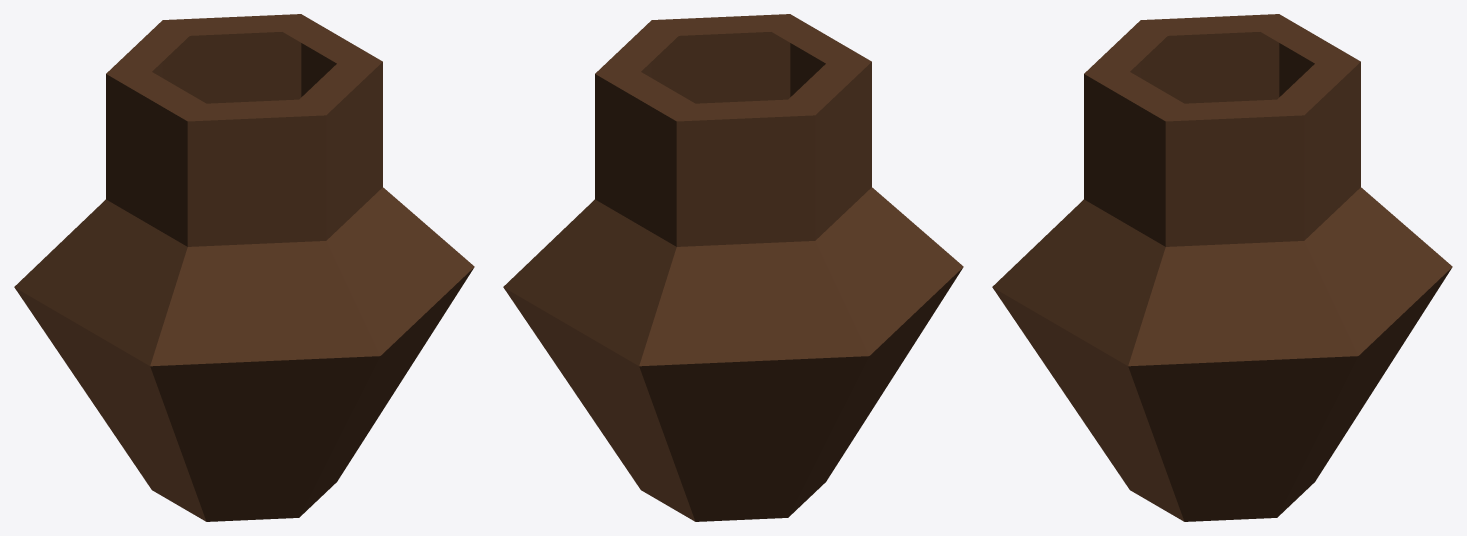
Rendered from KITCHEN INVENTORY 4.fbx.
The picture shows the model from 3 angles, left to right: view 1: azimuth 30°, elevation 25°; view 2: azimuth 150°, elevation 25°; view 3: azimuth 270°, elevation 25°; orthographic projection.
Visible parts, largest first — view 1: KITCHEN_INVENTORY_4; view 2: KITCHEN_INVENTORY_4; view 3: KITCHEN_INVENTORY_4.
Part boxes in pixels (x1=…): KITCHEN_INVENTORY_4: x1=14, y1=14, x2=474, y2=521; KITCHEN_INVENTORY_4: x1=503, y1=14, x2=963, y2=521; KITCHEN_INVENTORY_4: x1=992, y1=14, x2=1452, y2=521.
Bounding box in the file's own units: 25.03 × 27.31 × 27.26.
Materials: 1 (1 with a texture image).
